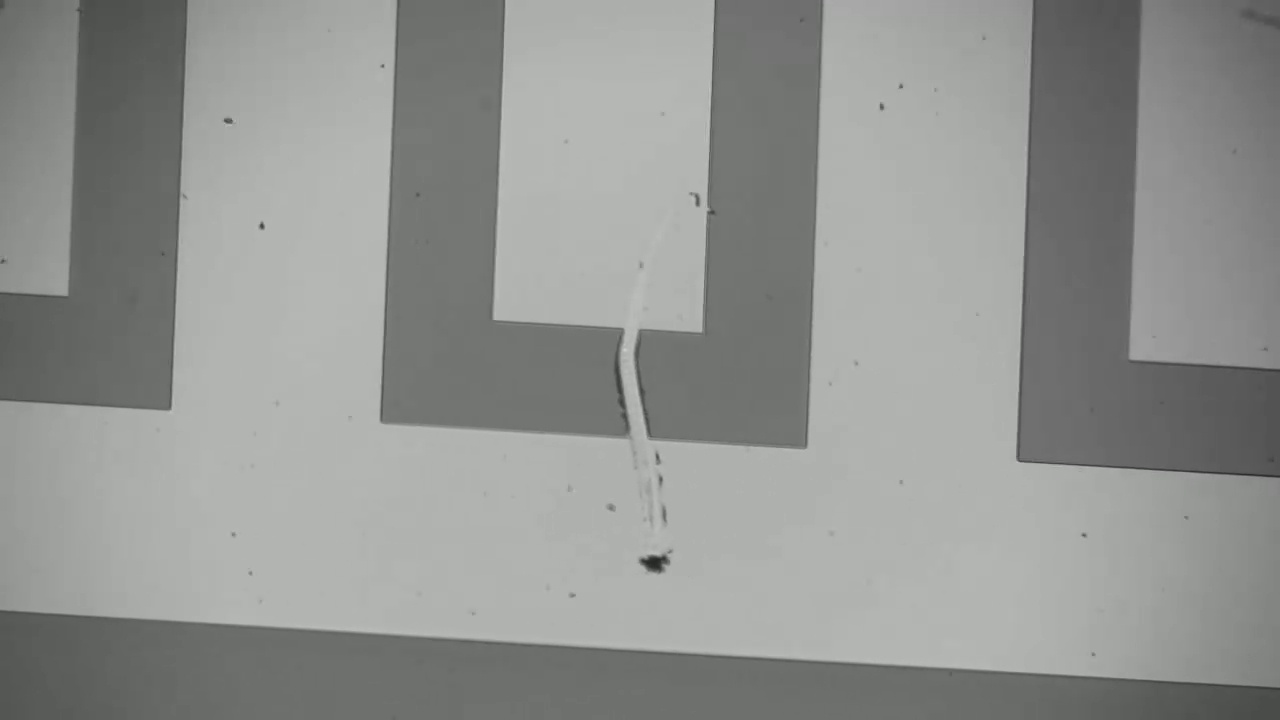Short_circuit: (589, 302, 670, 473)
